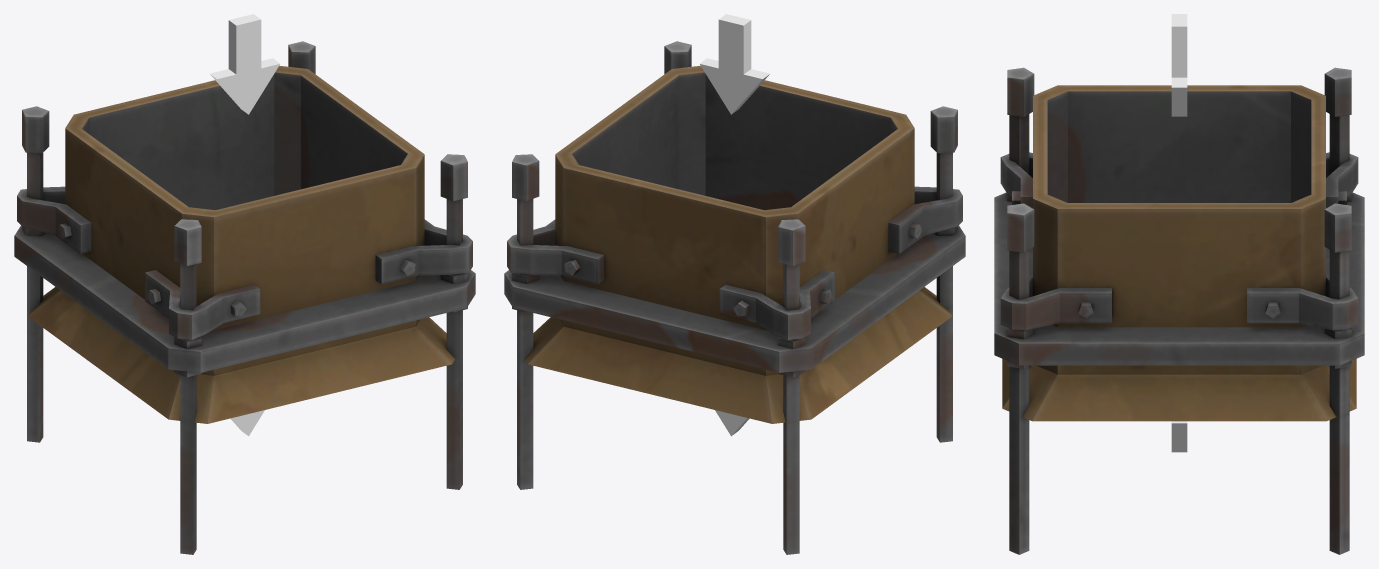
File: Chute_Bottom.glb
3 renders of one model, left to right at view 1: azimuth 30°, elevation 25°; view 2: azimuth 150°, elevation 25°; view 3: azimuth 270°, elevation 25°, orthographic. The views are drawn at different scales.
Parts seen in each view (by area): view 1: Chute_Bottom, ghostarrow; view 2: Chute_Bottom, ghostarrow; view 3: Chute_Bottom, ghostarrow, ghostarrow (1).
Boxes of the visible parts, x1=… form: Chute_Bottom: x1=14, y1=41, x2=475, y2=554; ghostarrow: x1=210, y1=14, x2=279, y2=114; Chute_Bottom: x1=504, y1=41, x2=965, y2=554; ghostarrow: x1=700, y1=14, x2=769, y2=114; Chute_Bottom: x1=994, y1=67, x2=1364, y2=554; ghostarrow: x1=1171, y1=14, x2=1187, y2=116; ghostarrow (1): x1=1171, y1=421, x2=1187, y2=452.
Bounding box in the file's own units: 1 × 1.38 × 1.
2 materials, 1 textured.
